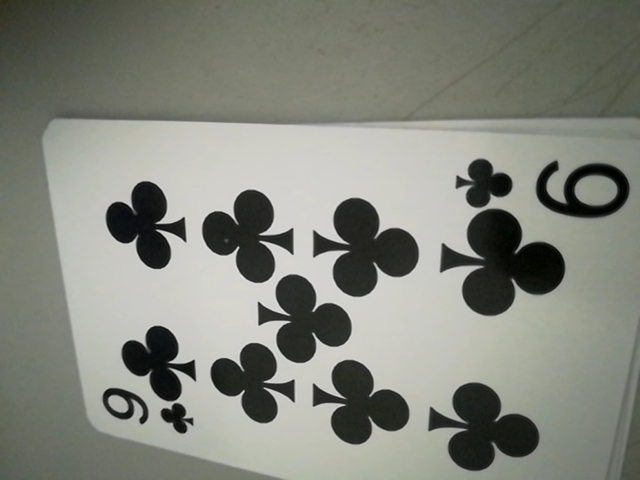mh 9: (450, 152, 628, 217), (95, 387, 199, 440)
